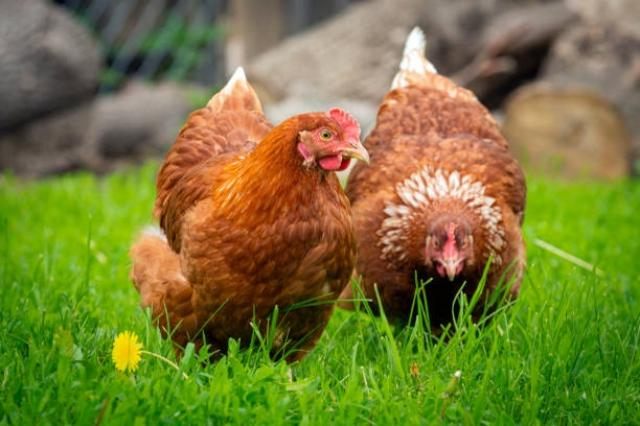Chicken: (131, 67, 370, 369), (336, 27, 526, 342)
